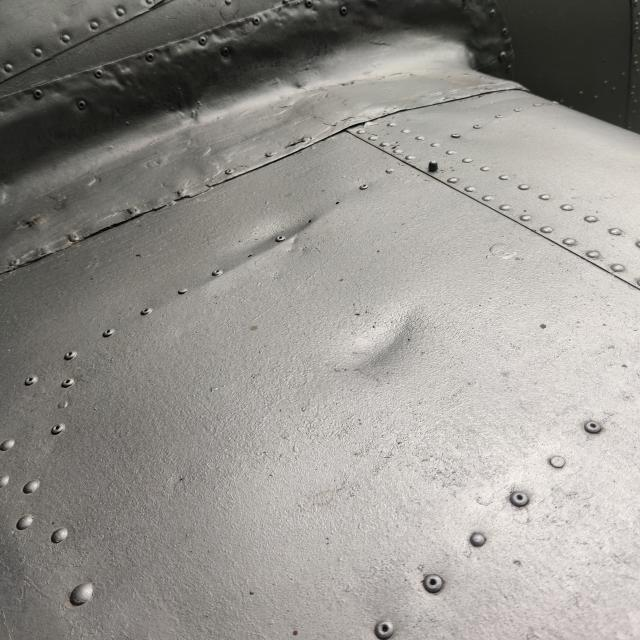dent: (308, 288, 455, 424), (213, 181, 336, 298)
